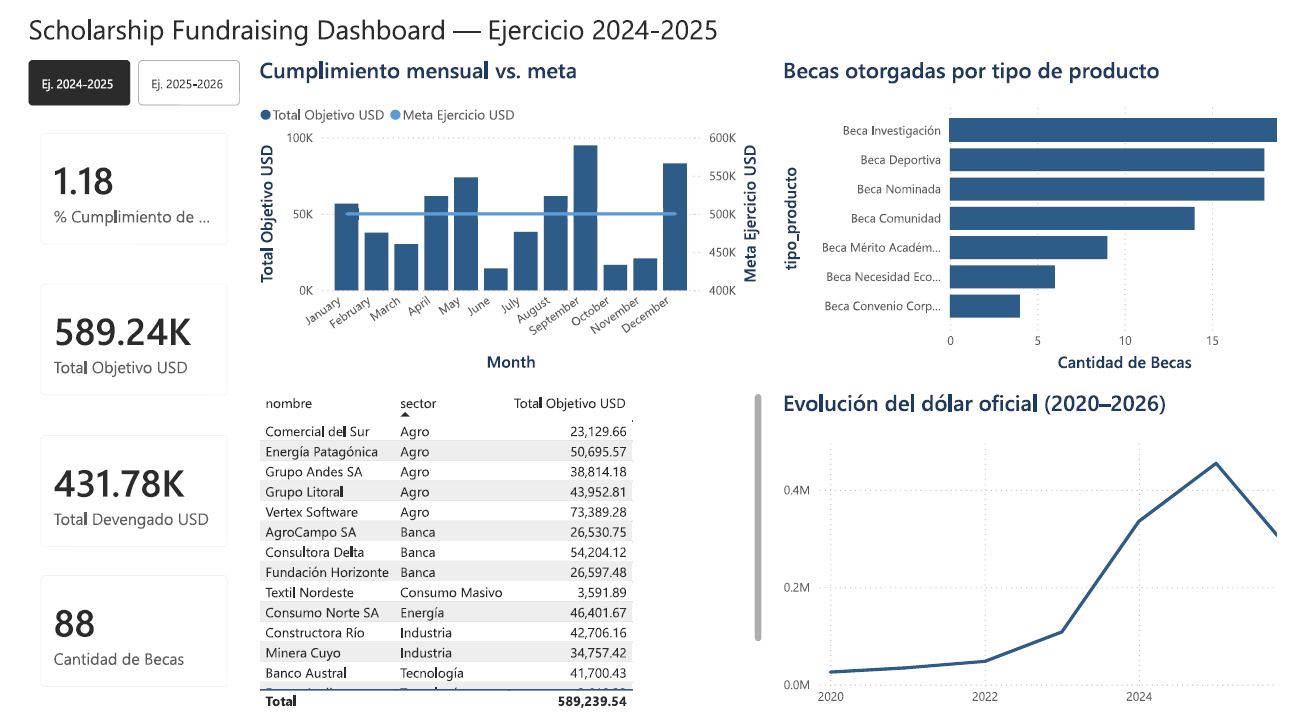

The dashboard page shown, as its layout file describes it:
{"tool":"powerbi","page":{"name":"Page 1","canvas":[1280,720],"ordinal":0},"visuals":[{"type":"advancedSlicerVisual","fields":{"Values":["donaciones.ejercicio"]},"box":[0,50,220,55],"z":0},{"type":"cardVisual","fields":{"Data":["Divide(Medidas.% Cumplimiento de Meta, ScopedEval(Medidas.% Cumplimiento de Meta, []))"]},"box":[0,110,220,145],"z":1},{"type":"cardVisual","fields":{"Data":["Medidas.Total Objetivo USD"]},"box":[0,260,220,145],"z":2},{"type":"cardVisual","fields":{"Data":["Medidas.Total Devengado USD"]},"box":[0,410,220,145],"z":3},{"type":"cardVisual","fields":{"Data":["Medidas.Cantidad de Becas"]},"box":[0,550,220,145],"z":4},{"type":"lineStackedColumnComboChart","title":"Cumplimiento mensual vs. meta","fields":{"Category":["donaciones.fecha.Variation.Date Hierarchy.Month"],"Y":["Medidas.Total Objetivo USD"],"Y2":["Medidas.Meta Ejercicio USD"]},"box":[230,50,510,320],"z":5},{"type":"clusteredBarChart","title":"Becas otorgadas por tipo de producto","fields":{"Category":["becas.tipo_producto"],"Y":["Medidas.Cantidad de Becas"]},"box":[750,50,530,320],"z":6},{"type":"tableEx","fields":{"Values":["donantes.nombre","donantes.sector","Medidas.Total Objetivo USD"]},"box":[230,380,510,325],"z":7},{"type":"lineChart","title":"Evolución del dólar oficial (2020–2026)","fields":{"Category":["tipo_cambio.fecha.Variation.Date Hierarchy.Year","tipo_cambio.fecha.Variation.Date Hierarchy.Quarter","tipo_cambio.fecha.Variation.Date Hierarchy.Month","tipo_cambio.fecha.Variation.Date Hierarchy.Day"],"Y":["Sum(tipo_cambio.usd_ars_oficial)"]},"box":[750,380,530,325],"z":8},{"type":"textbox","box":[0,0,1280,45],"z":9}]}

Visuals, with their boxes in screenshot pixels (x1, y1, x2, y2), scaled from the page's 1280x720 canvas onto the 1300x723 screenshot:
advancedSlicerVisual - donaciones.ejercicio: [0, 50, 223, 105]
cardVisual - Divide(Medidas.% Cumplimiento de Meta, ScopedEval(Medidas.% Cumplimiento de Meta, [])): [0, 110, 223, 256]
cardVisual - Medidas.Total Objetivo USD: [0, 261, 223, 407]
cardVisual - Medidas.Total Devengado USD: [0, 412, 223, 557]
cardVisual - Medidas.Cantidad de Becas: [0, 552, 223, 698]
"Cumplimiento mensual vs. meta" lineStackedColumnComboChart: [234, 50, 752, 372]
"Becas otorgadas por tipo de producto" clusteredBarChart: [762, 50, 1299, 372]
tableEx - donantes.nombre x donantes.sector: [234, 382, 752, 708]
"Evolución del dólar oficial (2020–2026)" lineChart: [762, 382, 1299, 708]
textbox: [0, 0, 1299, 45]
